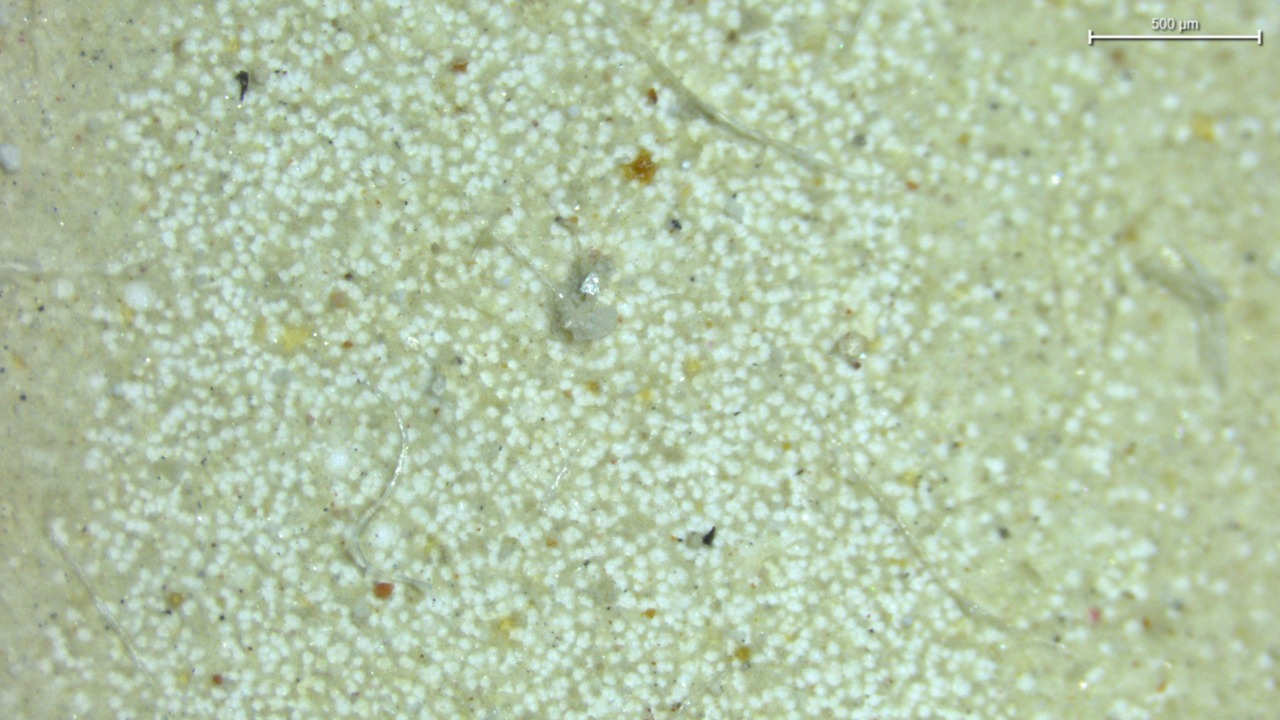microplastic_fragment: (547, 250, 618, 341)
